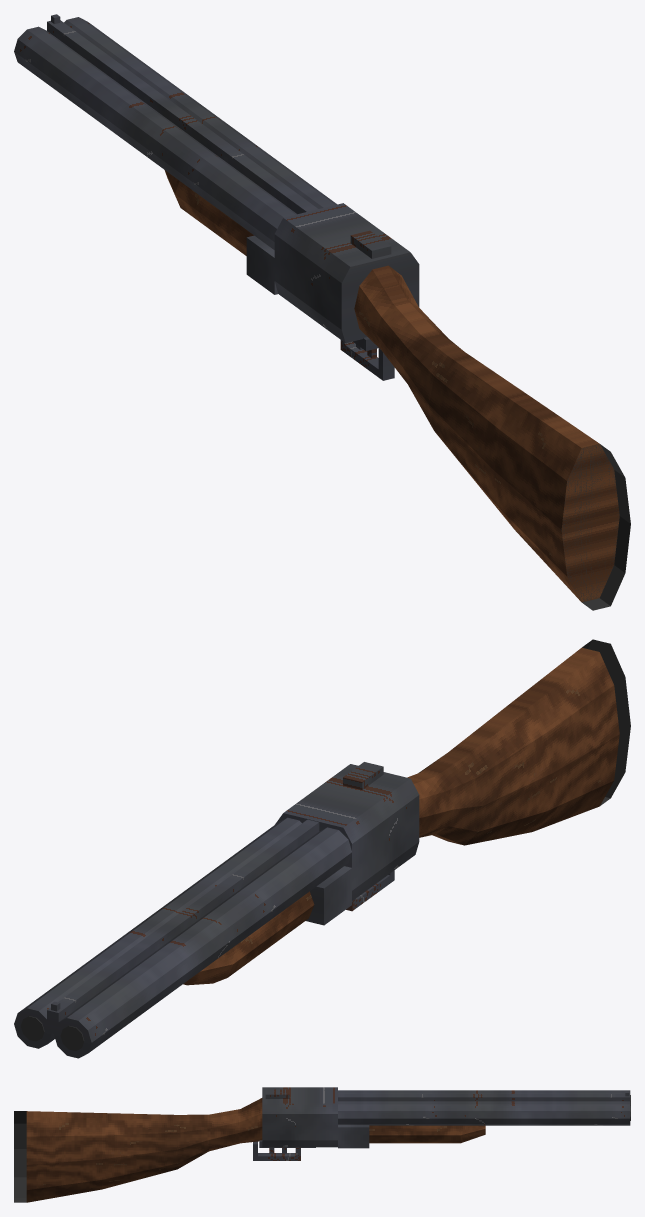
The model's file is shotgun.glb.
3 views of the same model, one above another, from view 1: azimuth 30°, elevation 25°; view 2: azimuth 150°, elevation 25°; view 3: azimuth 270°, elevation 25° (orthographic). The views are drawn at different scales.
Visible parts, largest first — view 1: Body, Barrels; view 2: Body, Barrels; view 3: Body, Barrels.
Boxes of the visible parts, box(x1,y1,x2,y2) form: Body: box(274, 203, 630, 610); Barrels: box(14, 14, 337, 294); Body: box(275, 639, 630, 911); Barrels: box(14, 817, 351, 1058); Body: box(14, 1087, 337, 1202); Barrels: box(338, 1090, 630, 1148).
Size of the model in its own units: 0.08 by 0.1921 by 0.9808.
5 materials, 2 textured.
